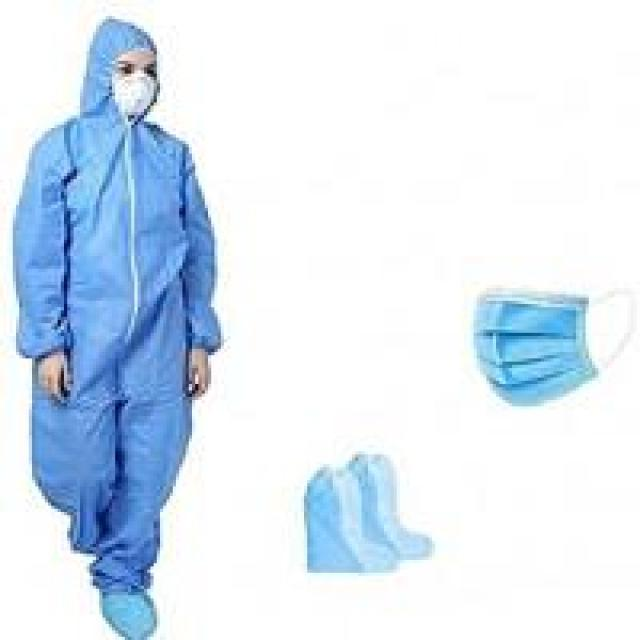Coverall: (6, 9, 227, 640)
Mask: (467, 275, 640, 403), (106, 70, 163, 125)
